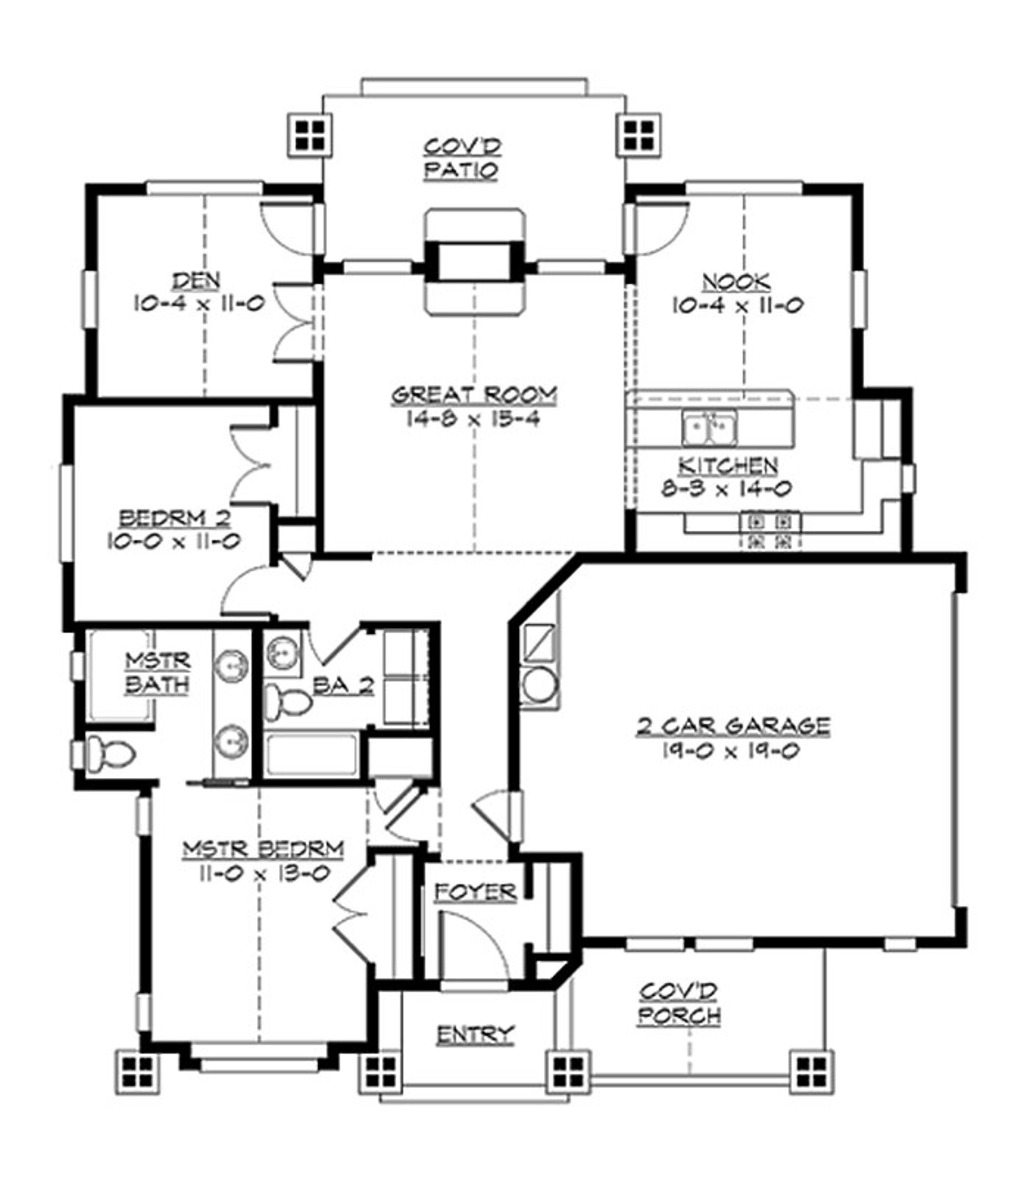door: (431, 906, 520, 1000), (324, 848, 392, 969), (263, 197, 340, 267), (616, 195, 689, 258), (226, 421, 279, 508), (277, 274, 324, 369), (466, 787, 533, 848), (220, 560, 283, 622), (298, 619, 361, 669), (390, 787, 433, 848), (372, 776, 422, 815)
large_sink: (250, 674, 333, 734), (81, 741, 161, 776)
small_sink: (213, 628, 257, 778), (257, 630, 296, 672)
twin_sink: (674, 399, 739, 451)
window: (52, 454, 83, 567), (192, 1045, 331, 1067), (152, 174, 263, 198), (74, 263, 100, 328), (687, 934, 761, 956), (622, 937, 683, 947)
